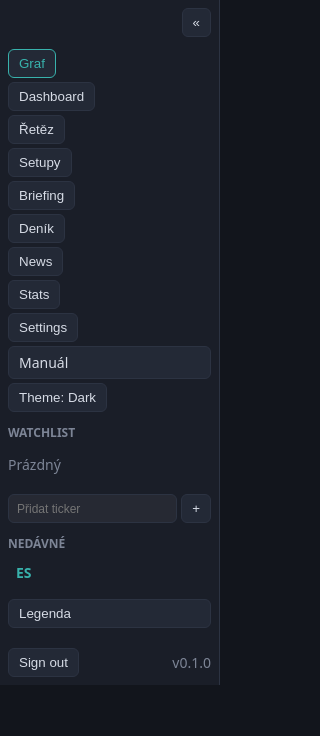
Test case: nedostupné API při přidání ukáže chybovou hlášku místo tichého selhání (#407)
Check: the element labelled "Watchlist" is shown, box left=8, top=424, right=211, bottom=523
Type "NQ" into the field named "Nový symbol" at (93, 508), box left=8, top=494, right=177, bottom=523
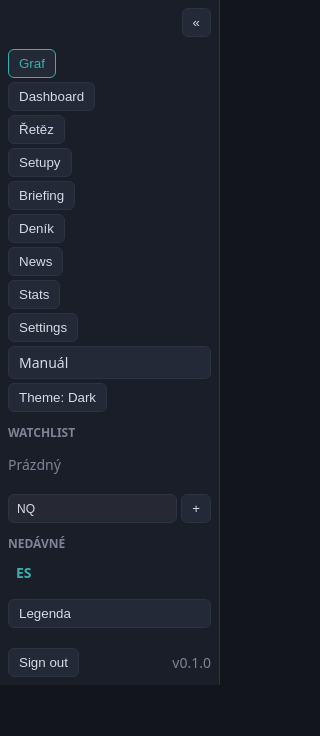
Submit the form, box left=8, top=494, right=211, bottom=523
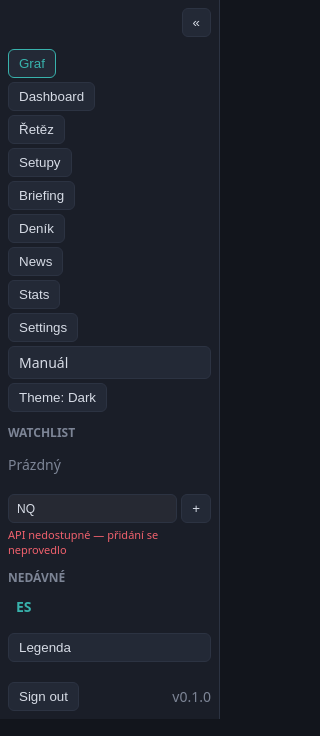
Check: the message "API nedostupné — přidání se neprovedlo" is shown, box left=8, top=527, right=158, bottom=557
